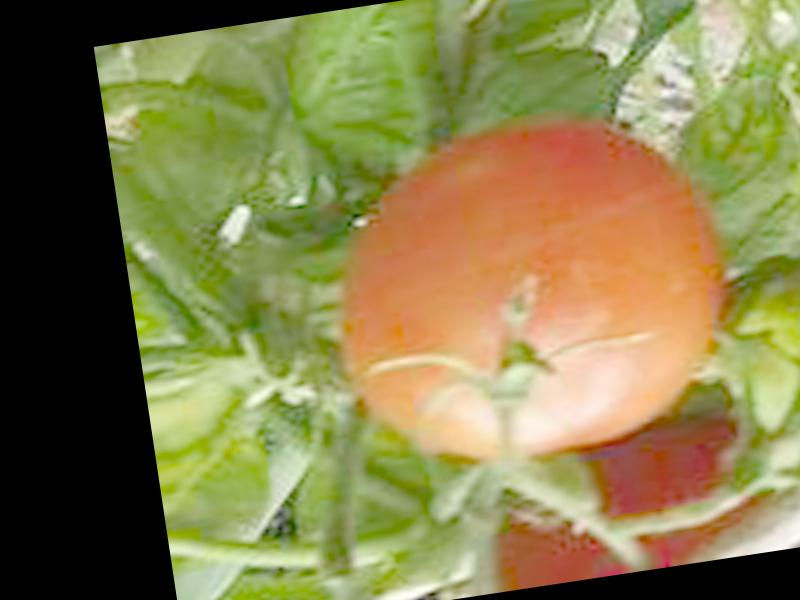Tomato: (319, 107, 741, 482)
